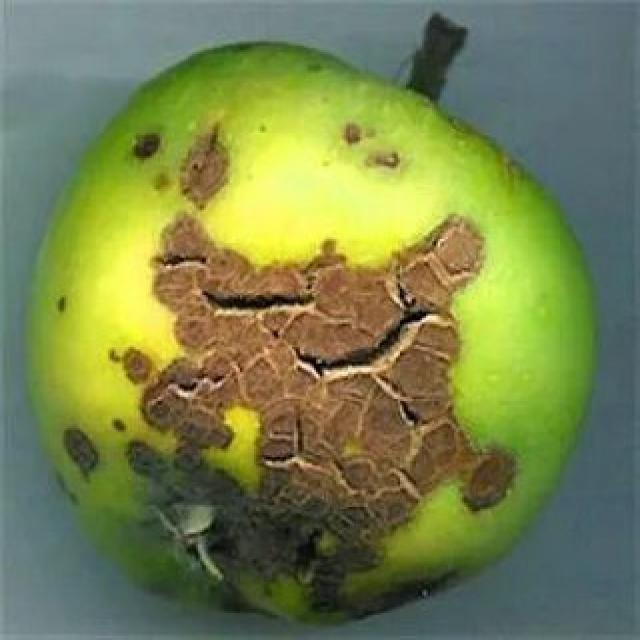Rotten: (57, 53, 593, 610)
